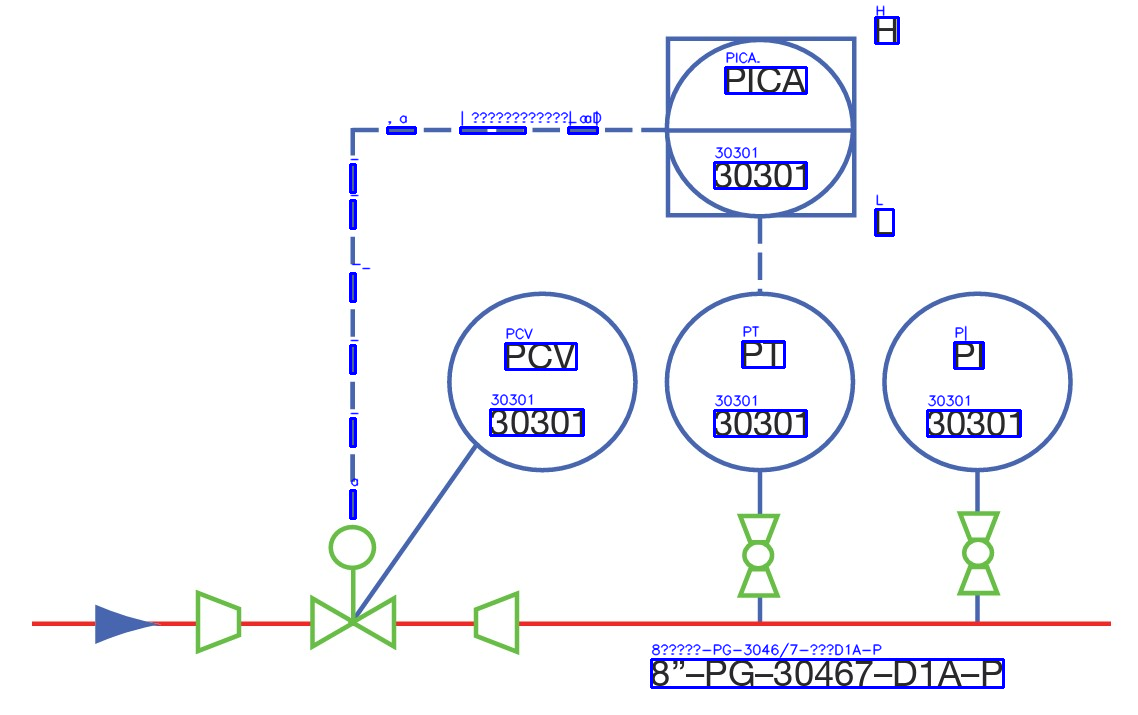Instrumento: (663, 282, 859, 477), (878, 285, 1077, 476), (443, 288, 642, 477)
Outro: (659, 30, 861, 222), (187, 582, 247, 662), (466, 588, 527, 656)
Válvula: (302, 515, 406, 654), (947, 506, 1007, 601), (730, 512, 793, 600)
